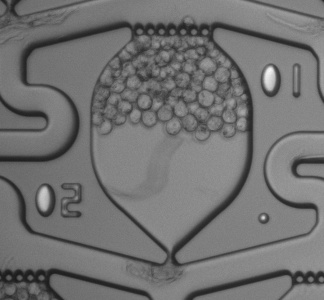AptNum: (248, 58, 310, 103)
Marker: (248, 205, 278, 232)
StNum: (28, 176, 90, 226)
